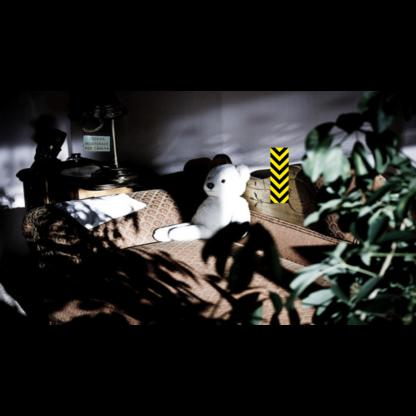I-E: (83, 135, 110, 151)
O-MP: (270, 148, 288, 203)
